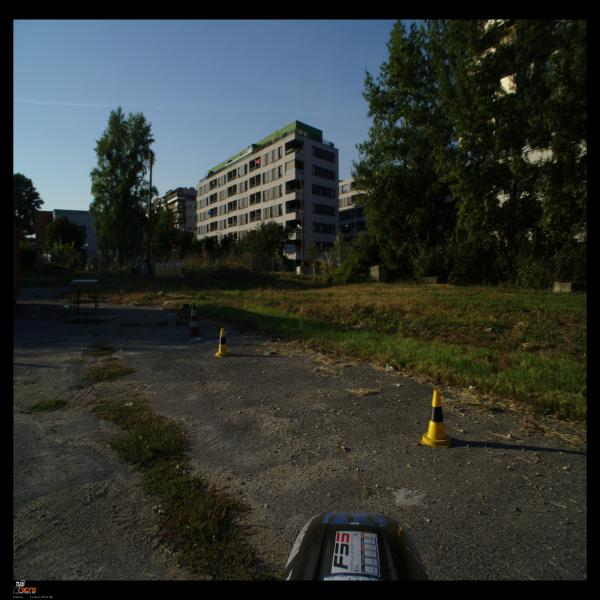large_orange_cone: (186, 303, 204, 336)
yellow_cone: (421, 390, 451, 447), (214, 328, 232, 357)
